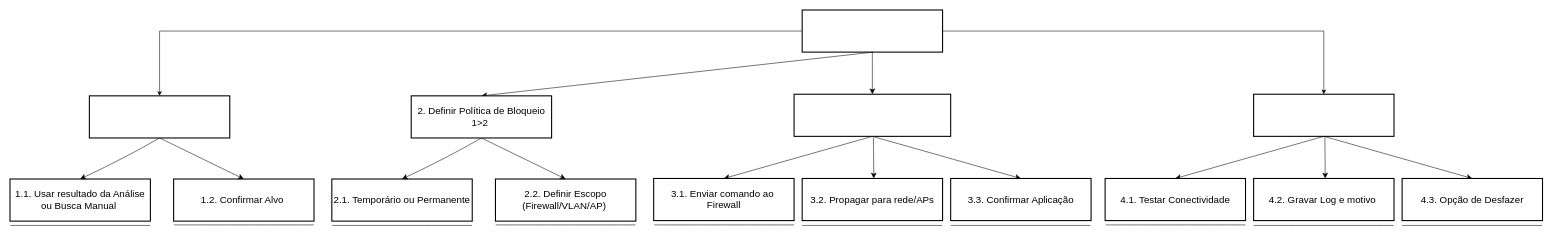
The diagram is 1552 pixels wide and 235 high, and some of its shapes have lost their labels. Here are the shapes that lost their labels. From the top down, the box of each, then its label:
(801, 9, 943, 52): 0. Banir dispositivo da Rede 1>2>3>4
(89, 95, 230, 138): 1. Selecionar Alvo 1>2
(793, 93, 951, 137): 3. Executar Bloqueio 1+2>3
(1253, 93, 1394, 137): 4. Verificar/Registrar 1+2>3
